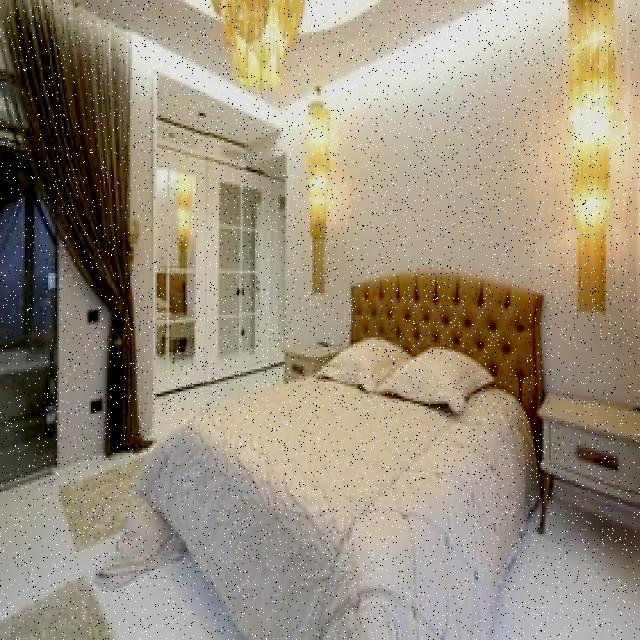bed: (141, 321, 541, 640)
